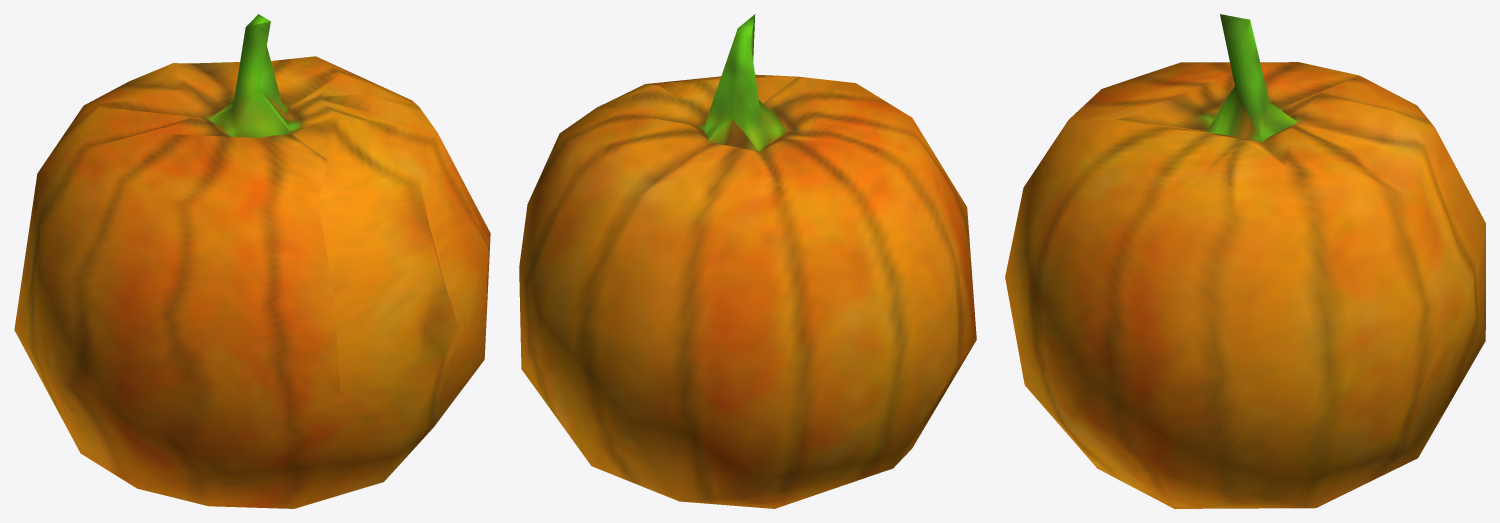
The model's file is Pumpkin.fbx.
The picture shows the model from 3 angles, left to right: view 1: azimuth 30°, elevation 25°; view 2: azimuth 150°, elevation 25°; view 3: azimuth 270°, elevation 25°; orthographic projection. The views are drawn at different scales.
Parts seen in each view (by area): view 1: Pumpkin; view 2: Pumpkin; view 3: Pumpkin.
Boxes of the visible parts, x1,y1,x2,y2 form: Pumpkin: (14,14,490,508); Pumpkin: (519,14,976,508); Pumpkin: (1005,14,1485,508).
Bounding box in the file's own units: 121 × 127 × 122.
Materials: 1 (1 with a texture image).
